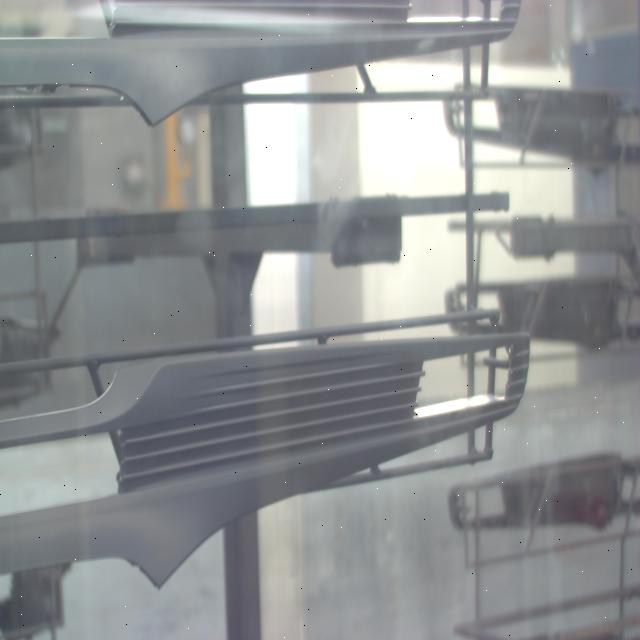Primered: (0, 320, 535, 599), (1, 0, 525, 147)
